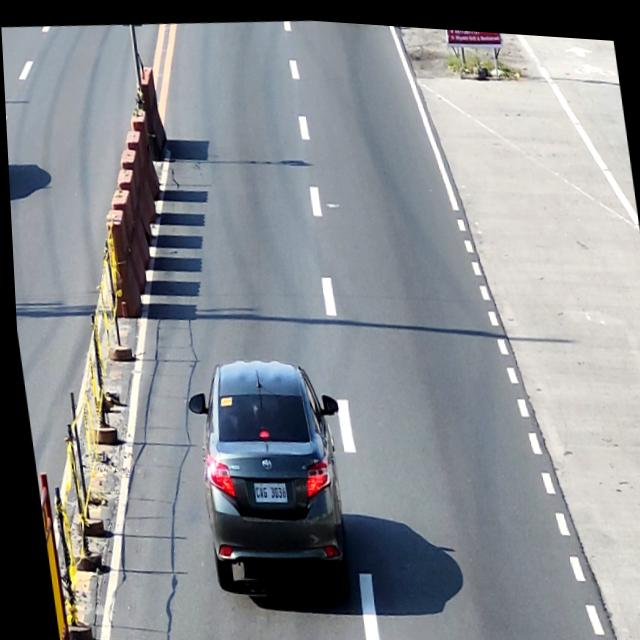Car: (177, 347, 358, 602)
License-Plate: (248, 476, 283, 501)
